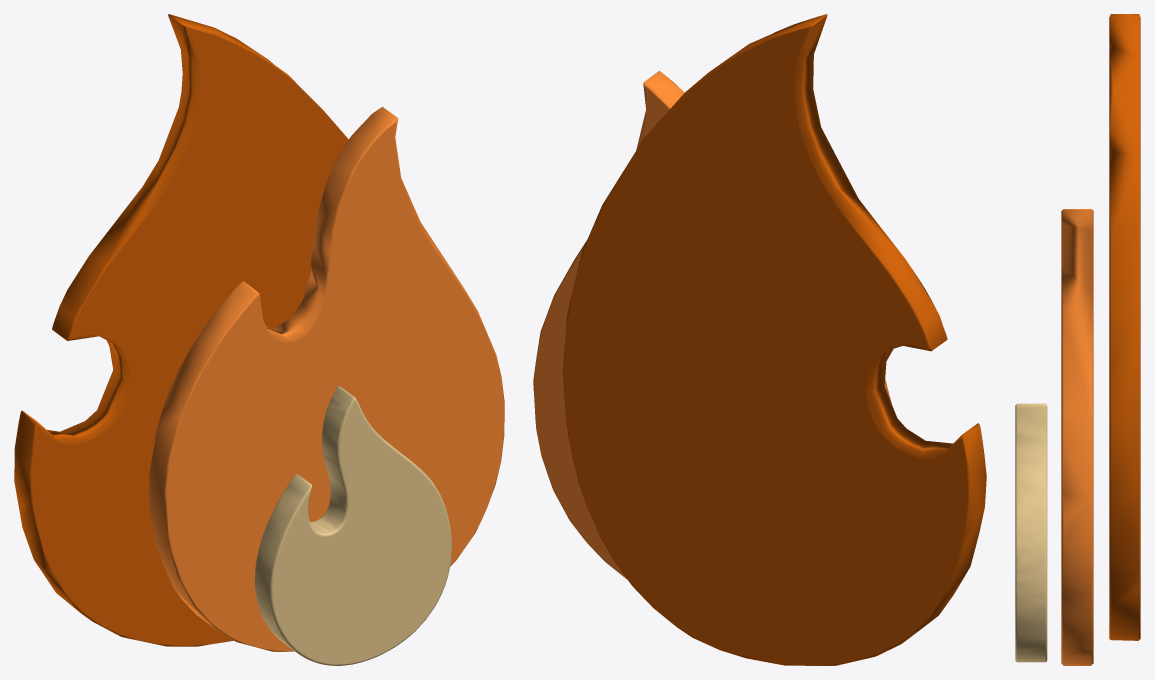
Rendered from fire.glb.
3 renders of one model, left to right at view 1: azimuth 30°, elevation 25°; view 2: azimuth 150°, elevation 25°; view 3: azimuth 270°, elevation 25°, orthographic. The views are drawn at different scales.
Parts seen in each view (by area): view 1: Back; view 2: Back; view 3: Back.
Part boxes in pixels (x1,y1,x2,y2): Back: [14, 14, 504, 665]; Back: [533, 14, 986, 665]; Back: [1015, 14, 1140, 665].
Size of the model in its own units: 1.4 by 1.87 by 0.3656.
